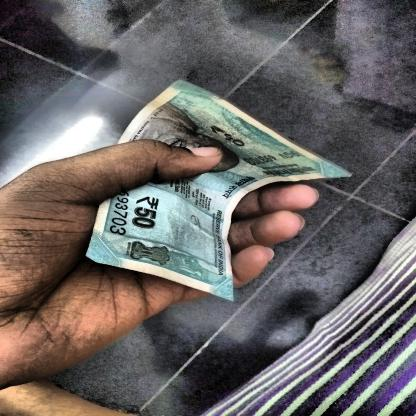Rs50: (128, 192, 163, 233)
